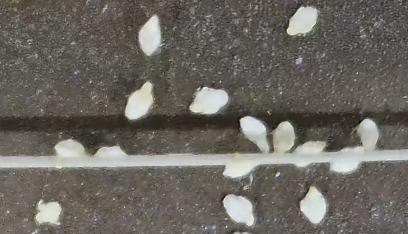chick: (124, 80, 155, 121), (239, 115, 271, 153), (221, 192, 255, 227), (298, 183, 326, 223), (189, 86, 228, 114), (285, 5, 319, 36), (138, 15, 163, 57), (292, 139, 326, 167), (351, 119, 380, 151), (331, 146, 364, 173), (271, 120, 295, 154), (34, 198, 63, 226), (94, 145, 129, 161), (53, 140, 88, 156), (222, 163, 259, 178)
